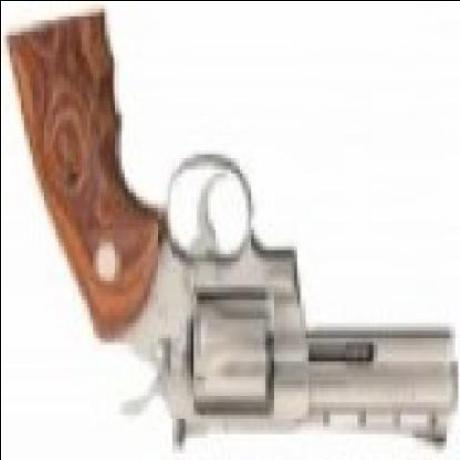weapon: (1, 8, 460, 452)
